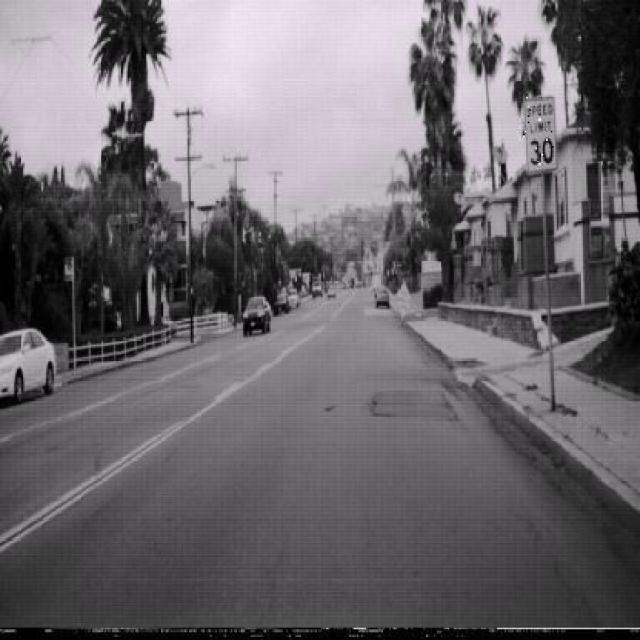speedLimit30: (523, 94, 559, 174)
